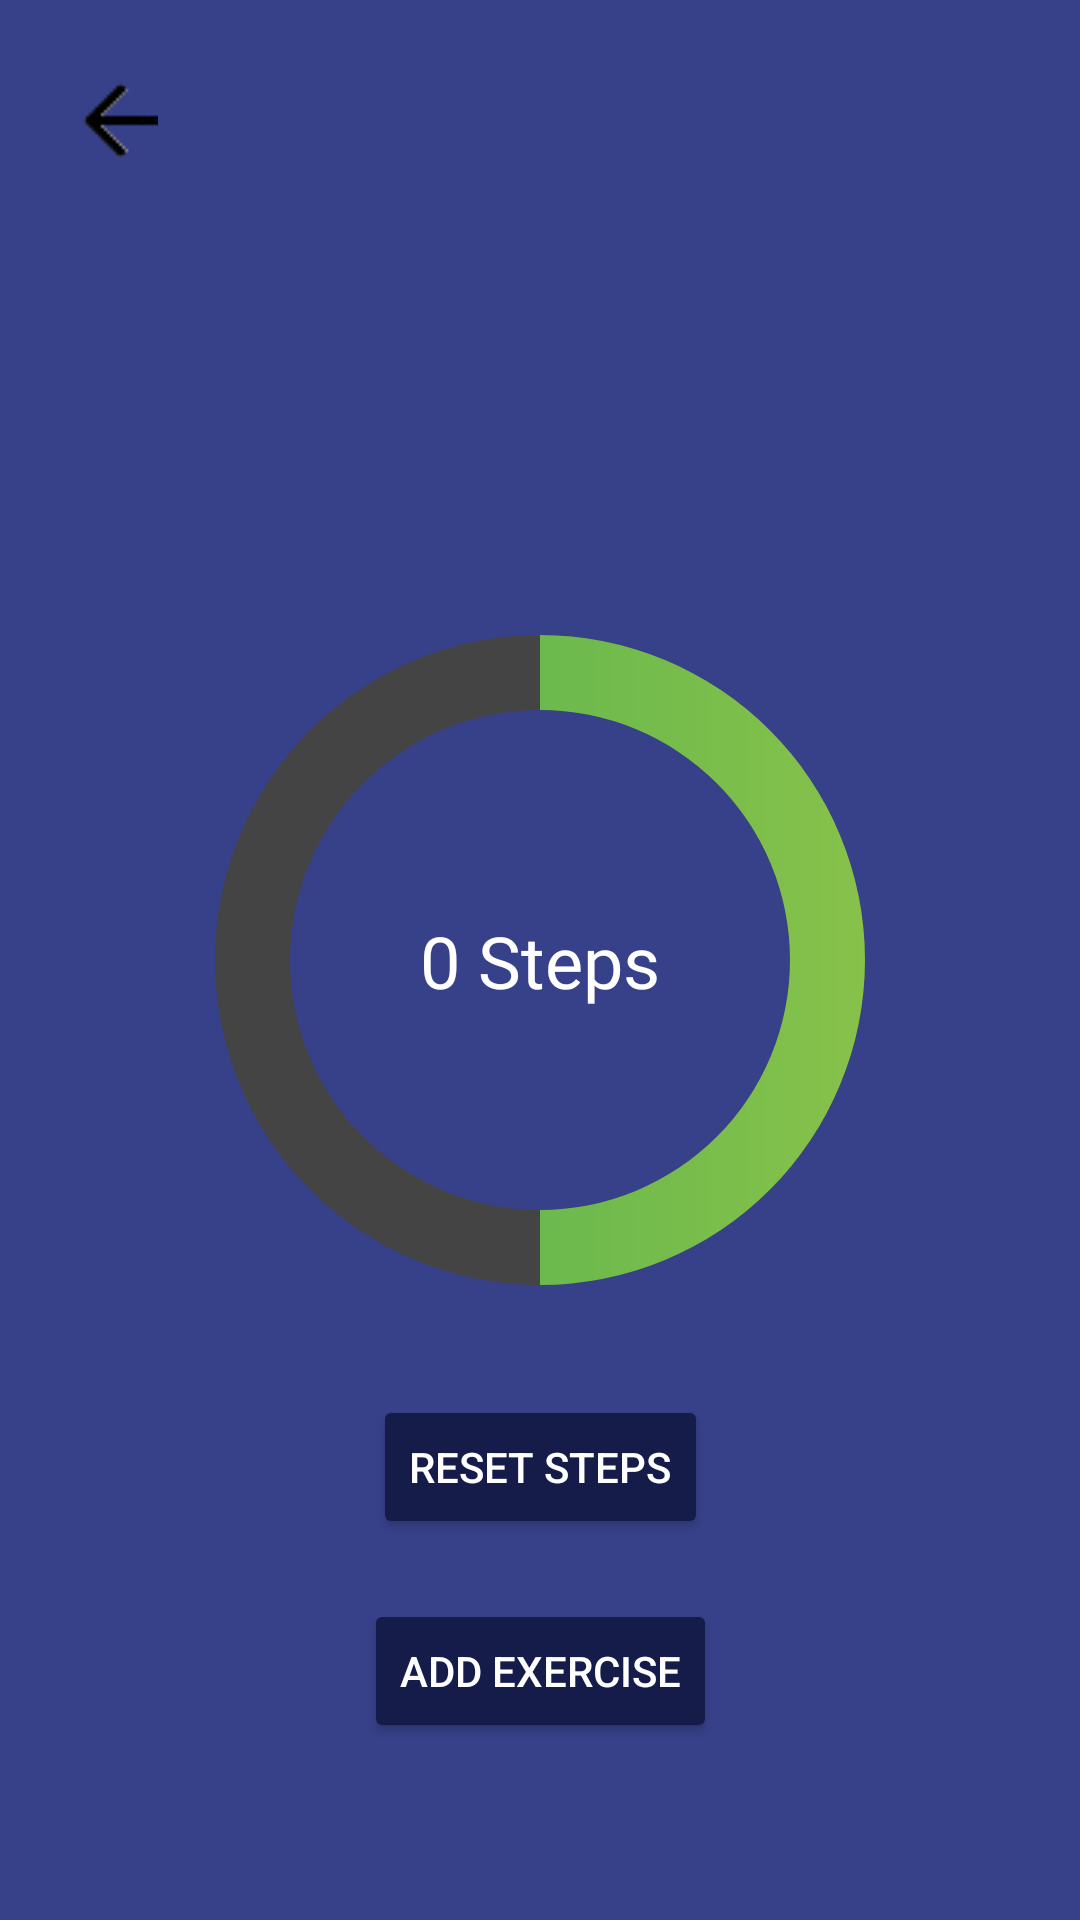

Where to tap for icons on this 1080×1920 app screen, as (x,y):
general back: (120,120)
